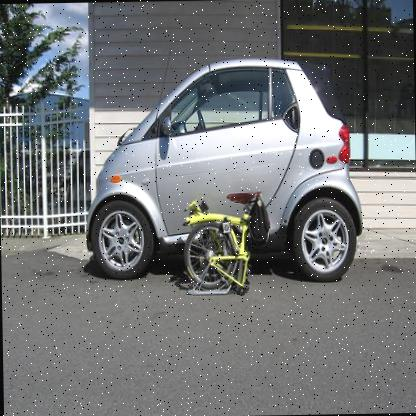car: (81, 52, 369, 291)
